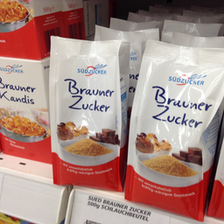tomato_sauce: (125, 40, 224, 221), (47, 34, 126, 193), (1, 57, 50, 166)
